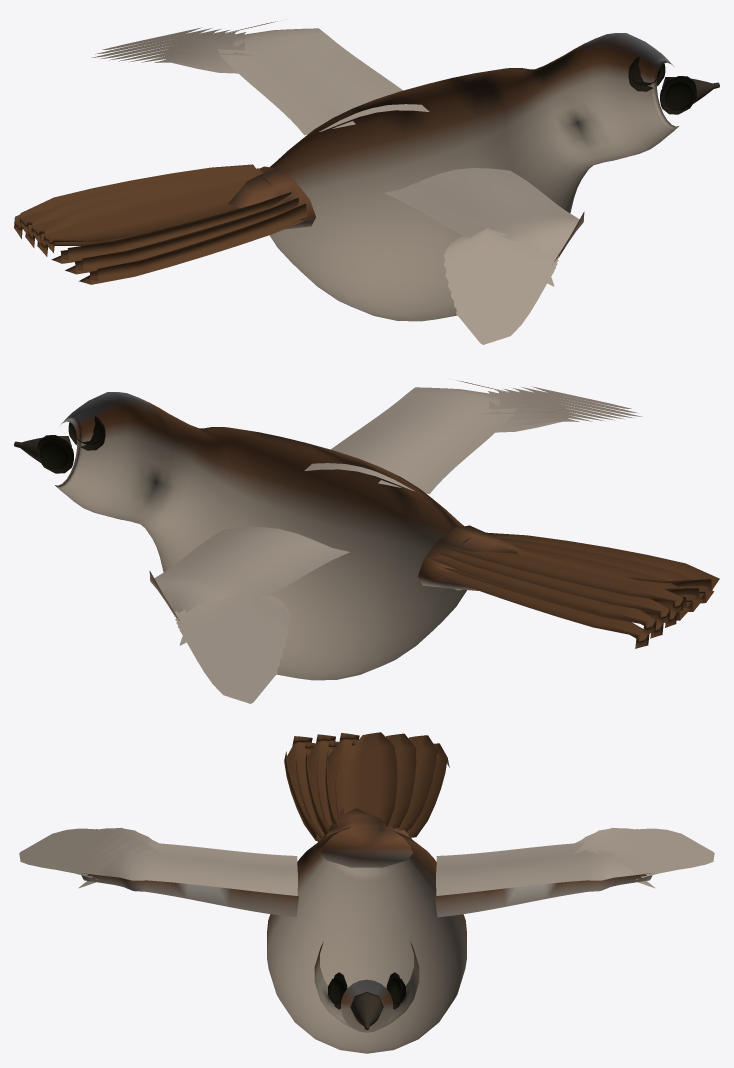
Rendered from SM_Bird_sparrow_flap3.glb.
3 views of the same model, one above another, from view 1: azimuth 30°, elevation 25°; view 2: azimuth 150°, elevation 25°; view 3: azimuth 270°, elevation 25° (orthographic). The views are drawn at different scales.
Parts seen in each view (by area): view 1: SM_Bird_sparrow_flap3; view 2: SM_Bird_sparrow_flap3; view 3: SM_Bird_sparrow_flap3.
Part boxes in pixels (x1,y1,x2,y2): SM_Bird_sparrow_flap3: (14, 21, 719, 344); SM_Bird_sparrow_flap3: (14, 380, 719, 703); SM_Bird_sparrow_flap3: (19, 732, 714, 1053).
Bounding box in the file's own units: 0.1703 × 0.0551 × 0.1772.
